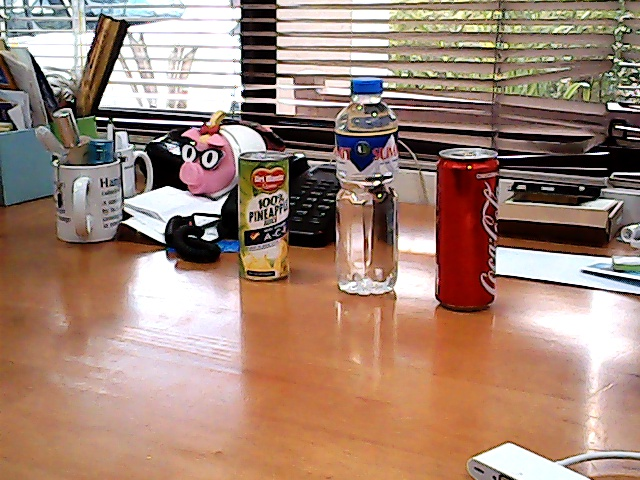Cola: (427, 137, 508, 317)
Pine Juice: (229, 148, 296, 289)
Summit Water: (327, 75, 407, 306)
